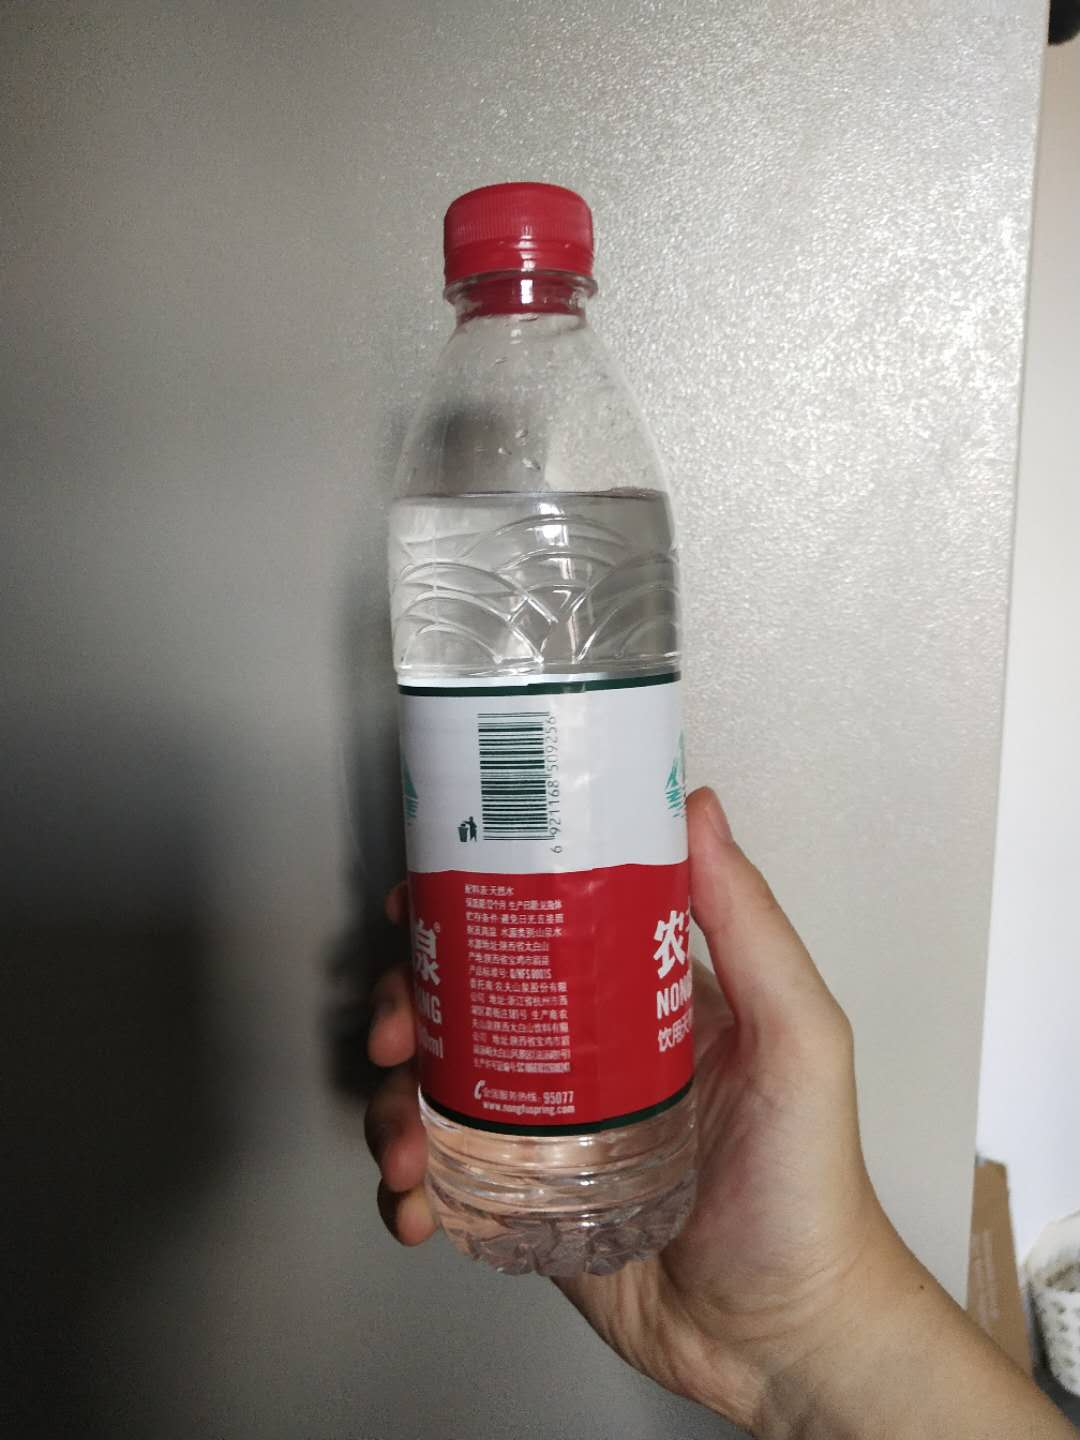农夫山泉: (368, 166, 723, 1303)
